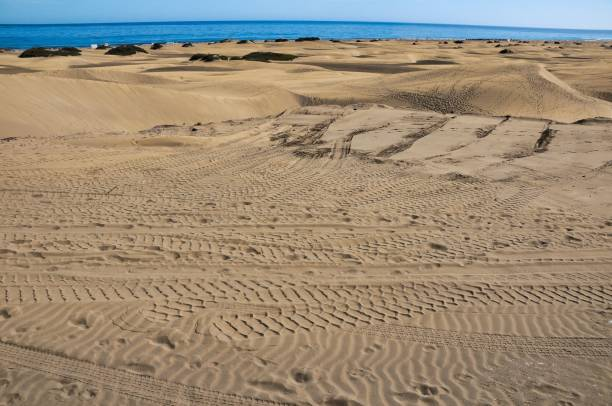vehicle_track: (0, 106, 611, 403), (0, 273, 611, 341), (0, 342, 289, 405), (355, 323, 611, 357), (376, 117, 453, 157)
